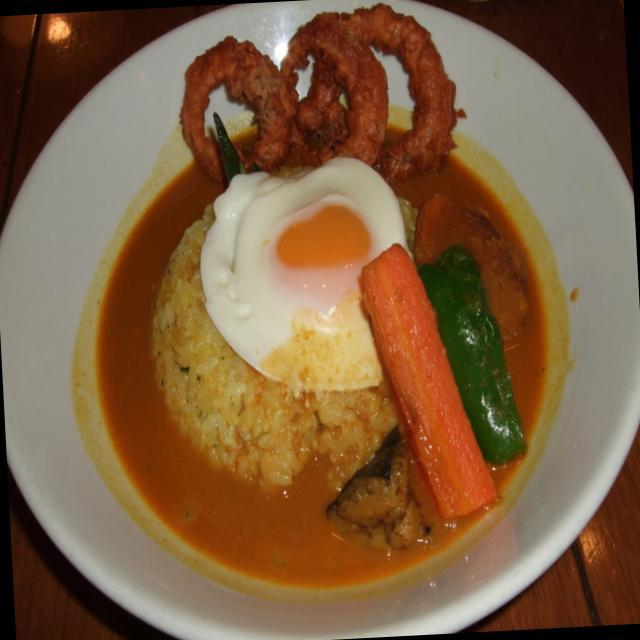Egg: (196, 146, 417, 380)
